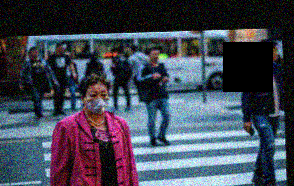with_mask: (85, 87, 110, 115)
without_mask: (271, 45, 280, 61), (150, 50, 160, 61), (57, 44, 65, 54), (31, 49, 39, 57)
